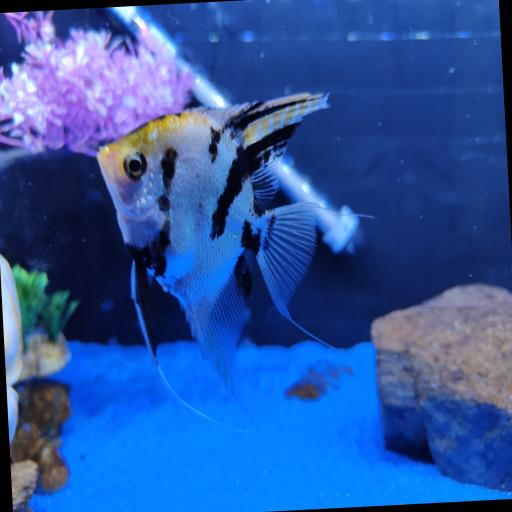Fish: (97, 94, 326, 394)
